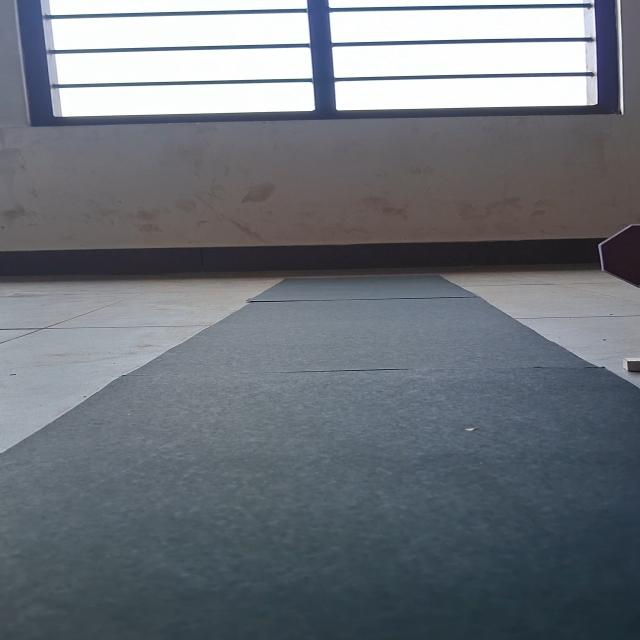Stop: (595, 222, 640, 288)
